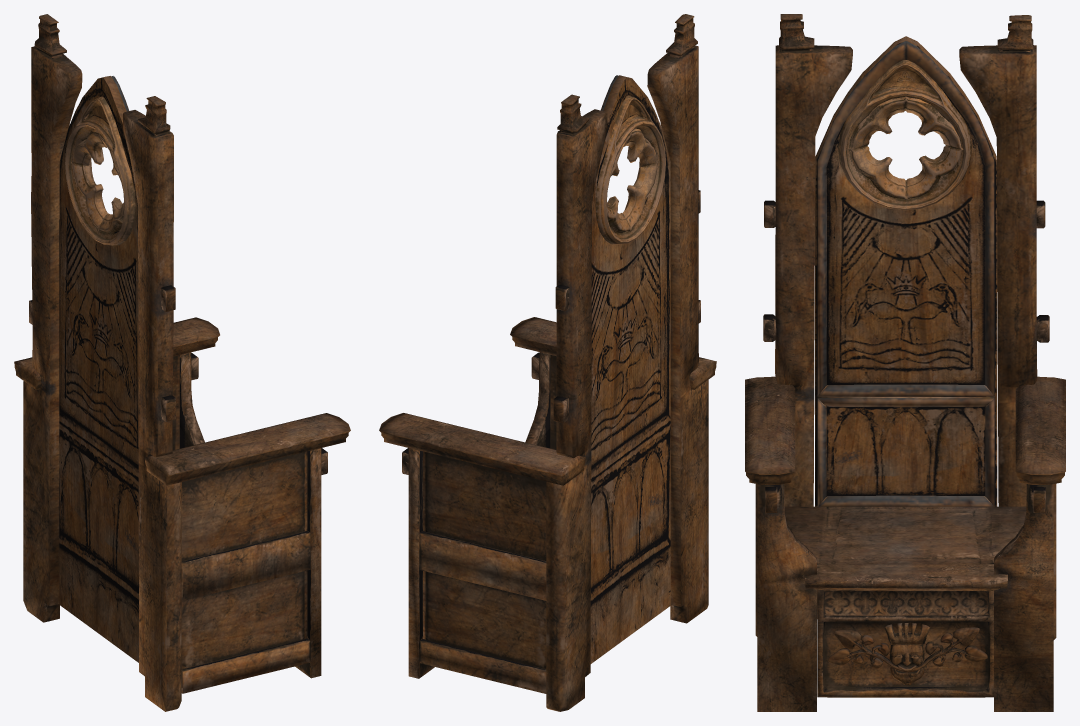
File: throne-sketch-2.glb
3 renders of one model, left to right at view 1: azimuth 30°, elevation 25°; view 2: azimuth 150°, elevation 25°; view 3: azimuth 270°, elevation 25°, orthographic. The views are drawn at different scales.
Visible parts, largest first — view 1: Throne; view 2: Throne; view 3: Throne.
Part boxes in pixels (<box>): Throne: <box>14,14,350,711</box>; Throne: <box>379,14,716,711</box>; Throne: <box>745,14,1065,711</box>.
Bounding box in the file's own units: 0.8089 × 2.48 × 1.16.
1 material, 1 textured.
